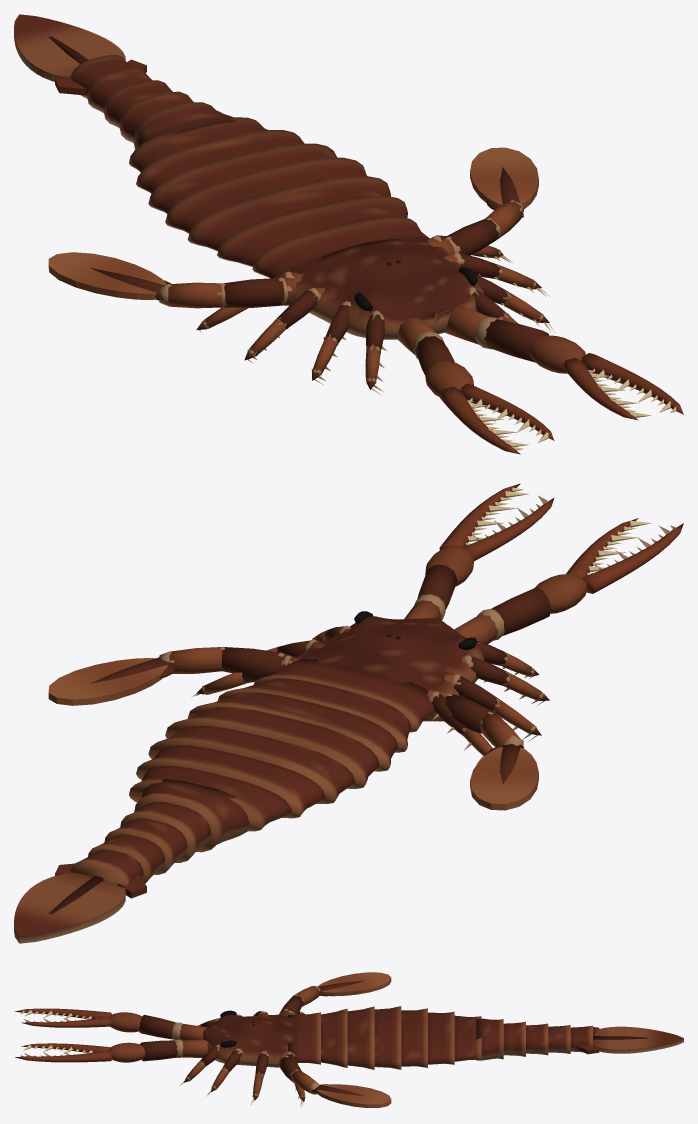
File: Jaekelopterus.fbx
The picture shows the model from 3 angles, top to bottom: view 1: azimuth 30°, elevation 25°; view 2: azimuth 150°, elevation 25°; view 3: azimuth 270°, elevation 25°; orthographic projection. The views are drawn at different scales.
Visible parts, largest first — view 1: Jaekelopterus; view 2: Jaekelopterus; view 3: Jaekelopterus.
Part boxes in pixels (left/top/right/bottom): Jaekelopterus: left=14, top=14, right=683, bottom=454; Jaekelopterus: left=14, top=483, right=683, bottom=943; Jaekelopterus: left=15, top=972, right=683, bottom=1107.
Size of the model in its own units: 1.24 by 0.1815 by 2.65.
